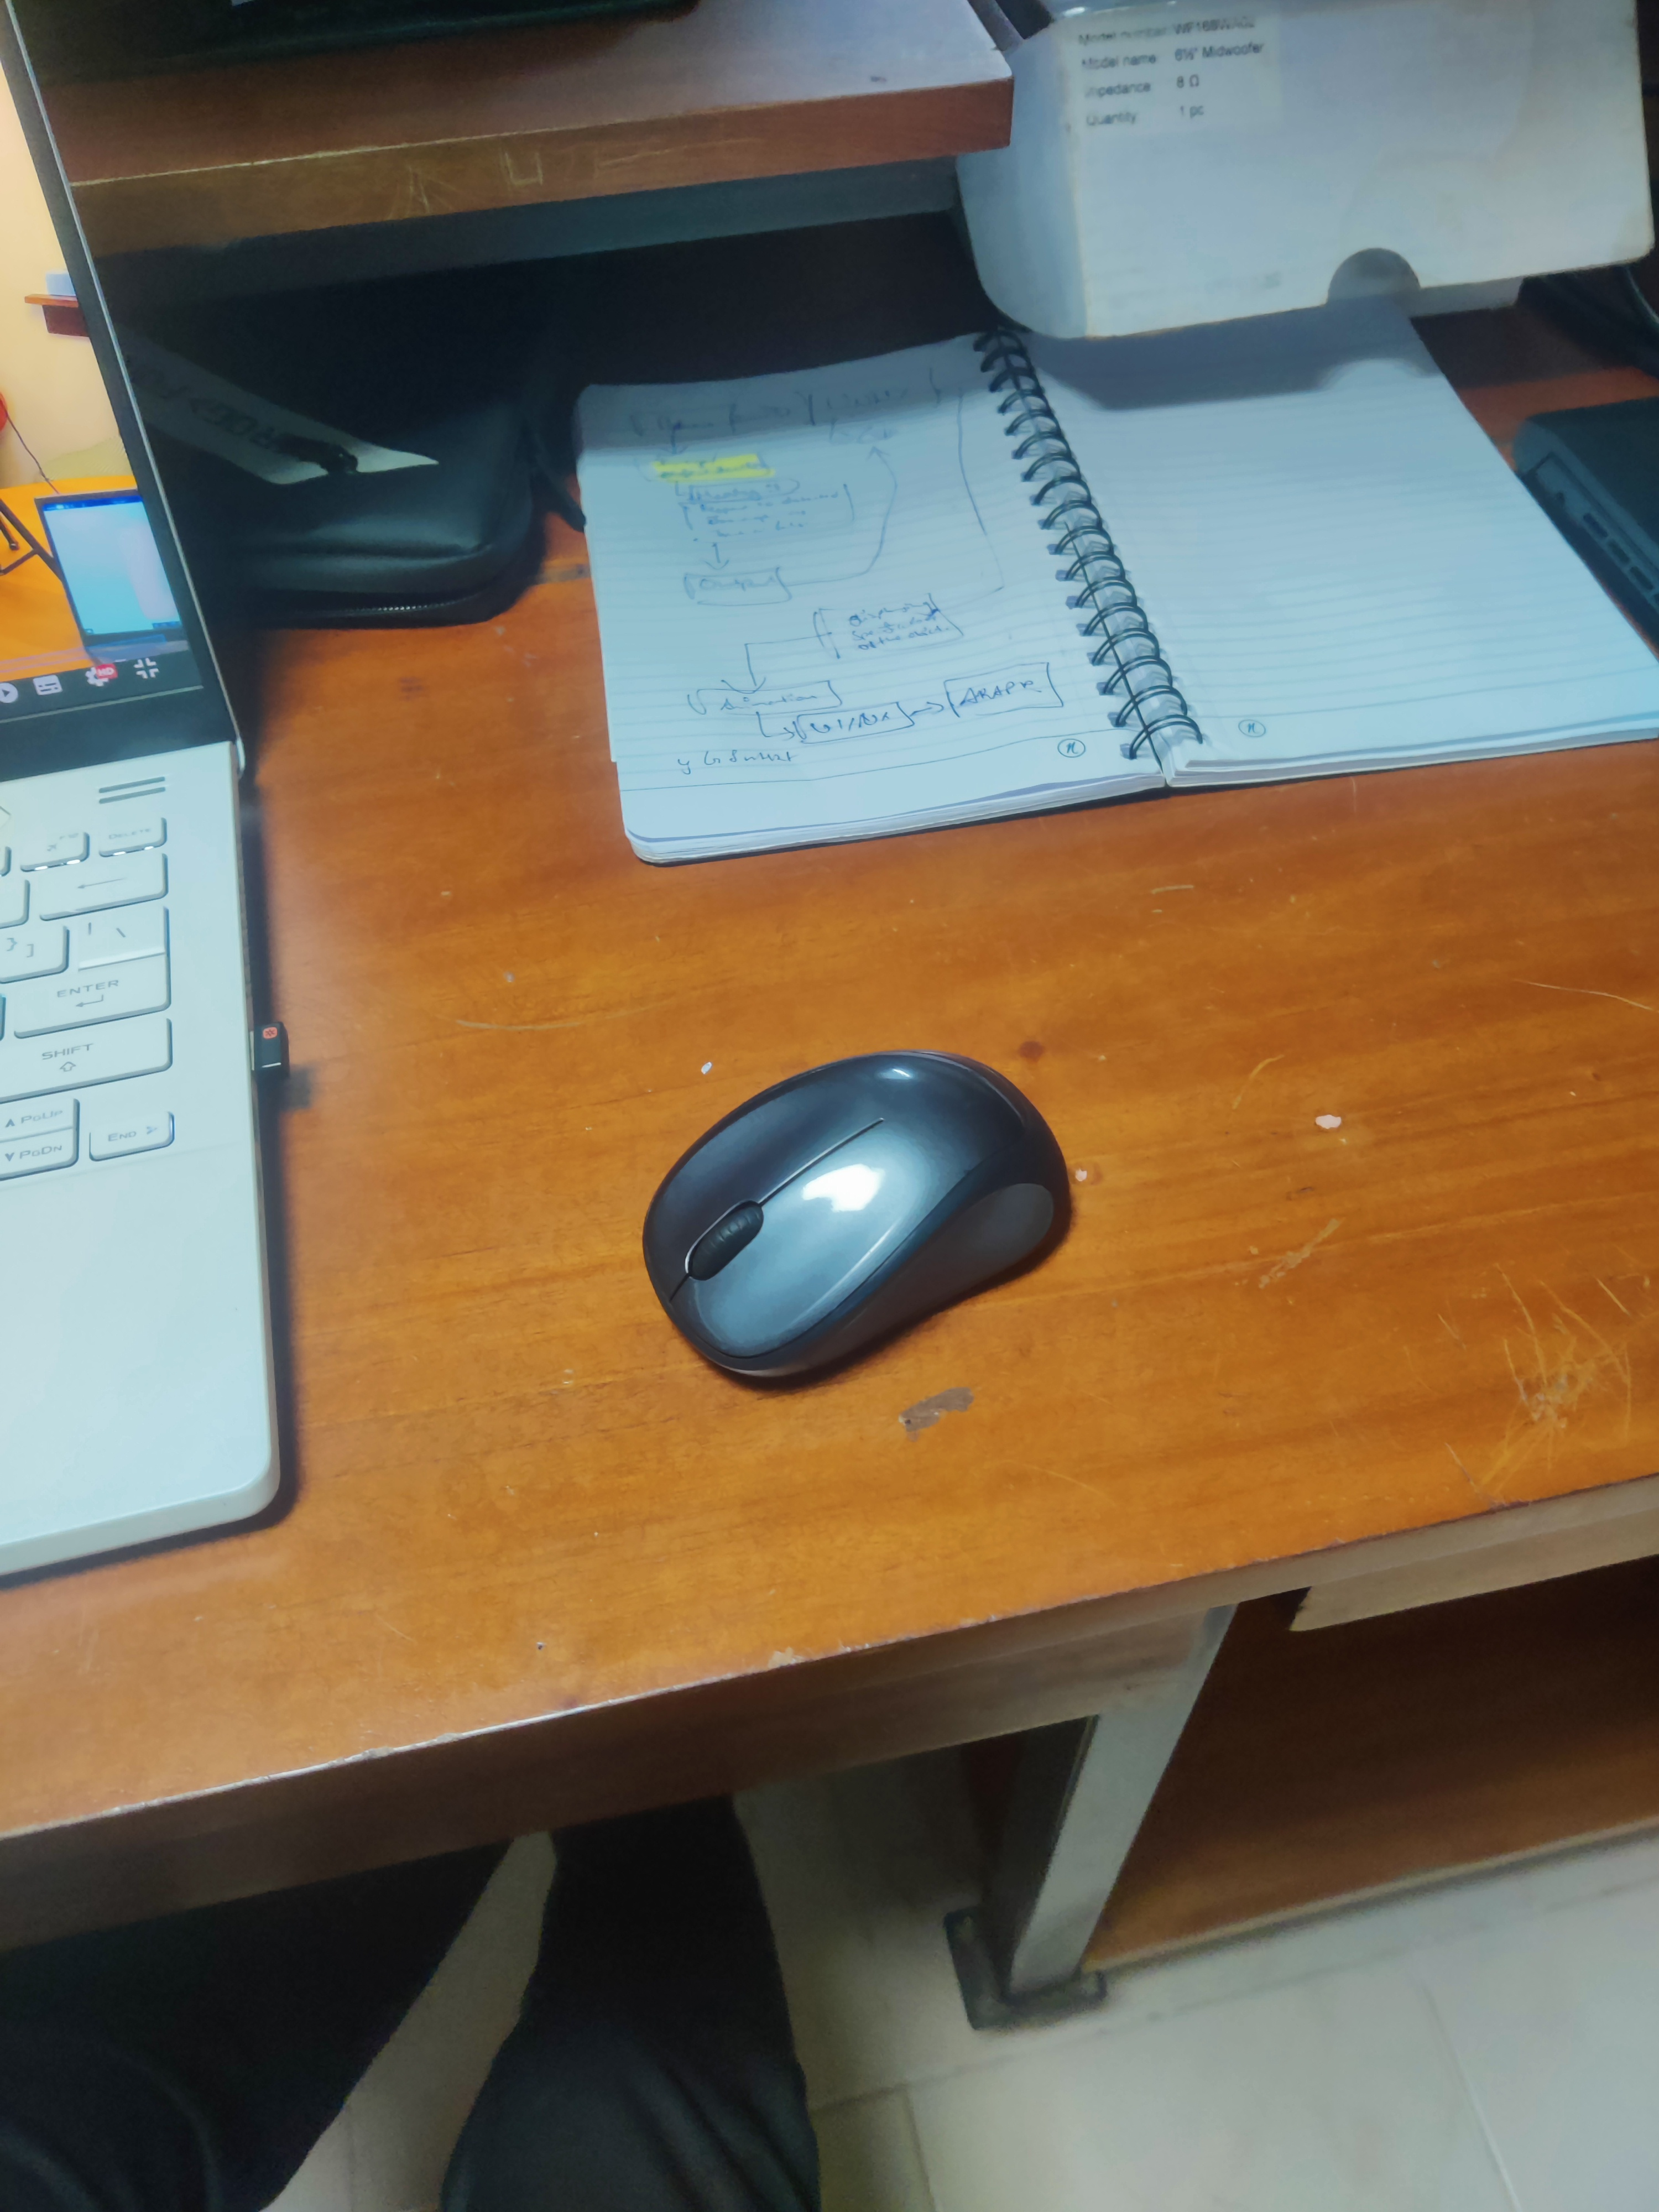logitechMouse: (636, 1040, 1084, 1402)
